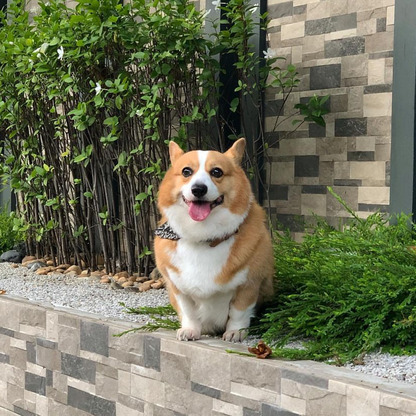Corgi: (151, 126, 288, 350)
